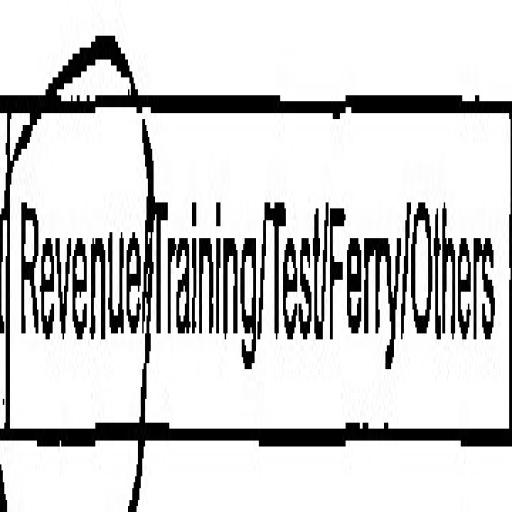check: (0, 6, 151, 512)
